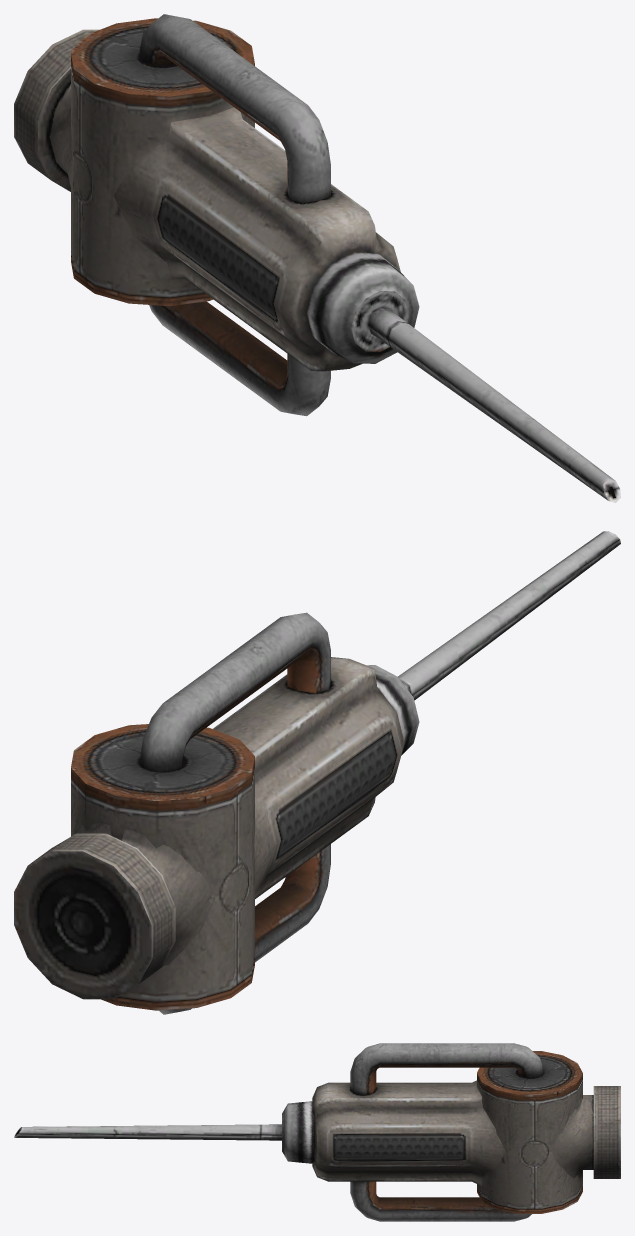
The model's file is socket_soma.dae.
3 renders of one model, top to bottom at view 1: azimuth 30°, elevation 25°; view 2: azimuth 150°, elevation 25°; view 3: azimuth 270°, elevation 25°, orthographic. The views are drawn at different scales.
Visible parts, largest first — view 1: socket_soma; view 2: socket_soma; view 3: socket_soma.
Boxes of the visible parts, <box> form: socket_soma: <box>14,14,620,502</box>; socket_soma: <box>14,531,620,1014</box>; socket_soma: <box>14,1043,620,1221</box>.
Size of the model in its own units: 0.0688 by 0.1304 by 0.4042.
